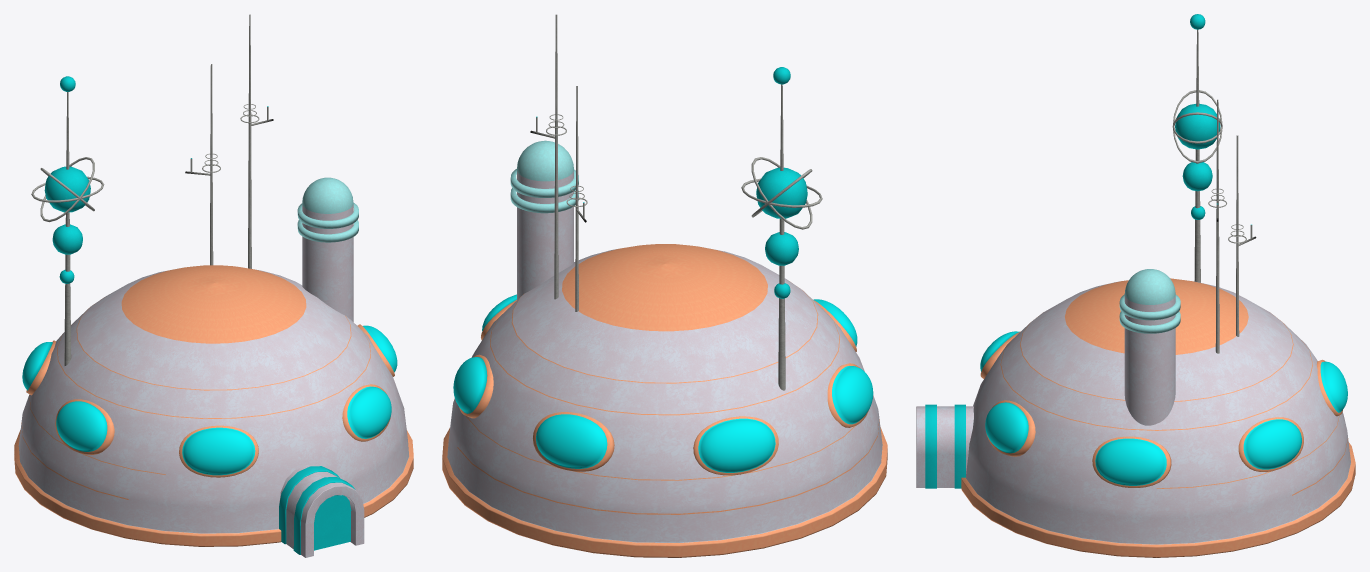
Rendered from Building01.gltf.
3 renders of one model, left to right at view 1: azimuth 30°, elevation 25°; view 2: azimuth 150°, elevation 25°; view 3: azimuth 270°, elevation 25°, orthographic. The views are drawn at different scales.
Parts seen in each view (by area): view 1: Building01_Dome1, Building01_Window1 (×5), Building01_tower1, Building01_Door1, Building01_antena2, Building01_antena1 (×2); view 2: Building01_Dome1, Building01_Window1 (×5), Building01_tower1, Building01_antena2, Building01_antena1 (×2); view 3: Building01_Dome1, Building01_Window1 (×5), Building01_tower1, Building01_Door1, Building01_antena2, Building01_antena1 (×2).
Boxes of the visible parts, x1,y1,x2,y2 form: Building01_Dome1: (14, 265, 413, 546); Building01_Window1 (×5): (22, 324, 397, 477); Building01_tower1: (297, 177, 358, 321); Building01_Door1: (279, 464, 364, 557); Building01_antena2: (31, 76, 104, 365); Building01_antena1 (×2): (185, 14, 273, 268); Building01_Dome1: (442, 244, 887, 557); Building01_Window1 (×5): (453, 299, 873, 475); Building01_tower1: (510, 140, 578, 299); Building01_antena2: (741, 67, 822, 390); Building01_antena1 (×2): (530, 14, 587, 311); Building01_Dome1: (961, 278, 1355, 557); Building01_Window1 (×5): (980, 331, 1347, 487); Building01_tower1: (1119, 269, 1180, 425); Building01_Door1: (916, 404, 973, 488); Building01_antena2: (1172, 14, 1222, 282); Building01_antena1 (×2): (1208, 99, 1256, 353).
Bounding box in the file's own units: 13.89 × 15.68 × 15.35.
Materials: 7 (6 with a texture image).
